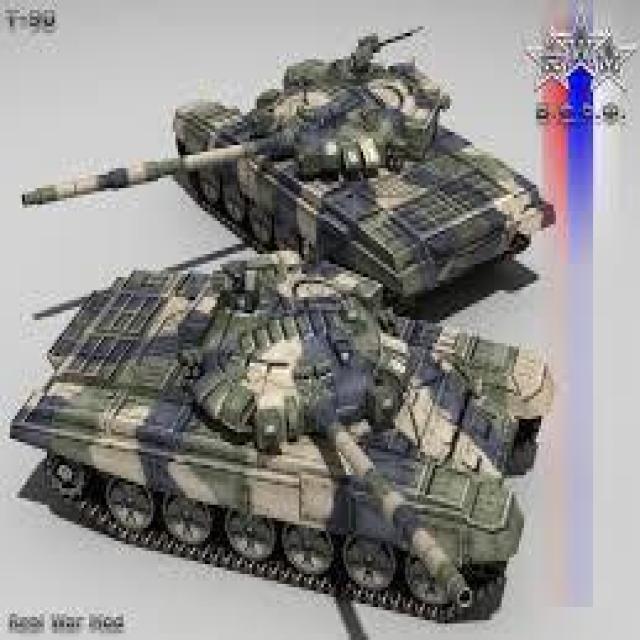Tanks: (46, 252, 525, 606), (31, 36, 562, 284)
